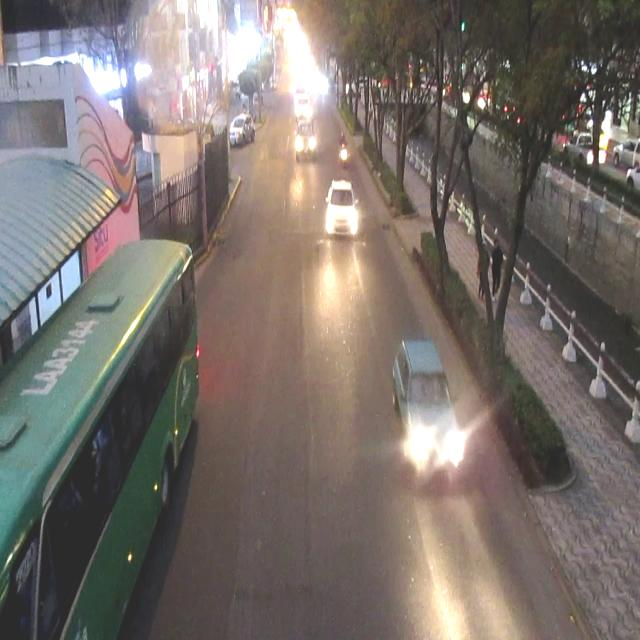BUS: (3, 241, 204, 639)
MOTORCYCLE: (340, 131, 349, 166)
SED: (394, 336, 464, 478), (328, 184, 358, 237)
SUV: (231, 117, 255, 147)
